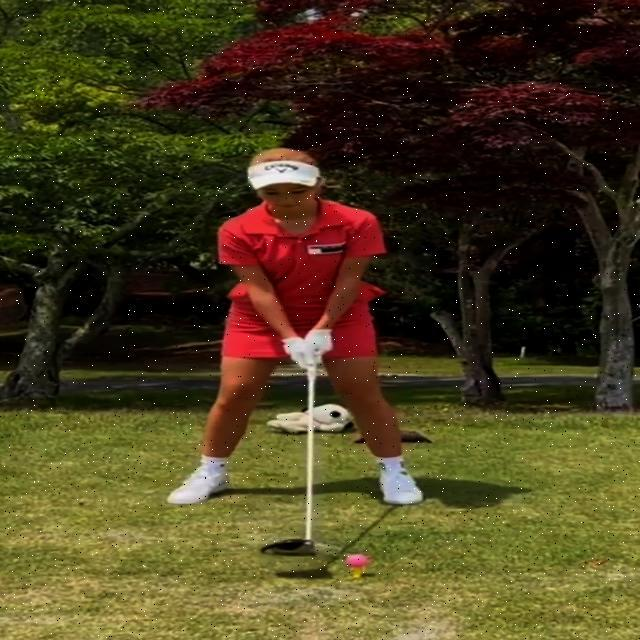golf ball: (344, 554, 370, 568)
golf club-handle: (261, 366, 316, 556)
golf club-head: (262, 540, 317, 556)
